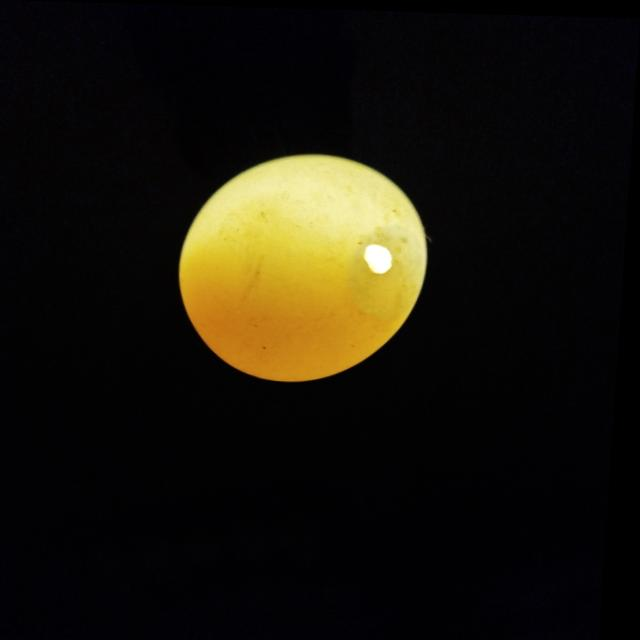Camara de Ar: (353, 235, 419, 316)
